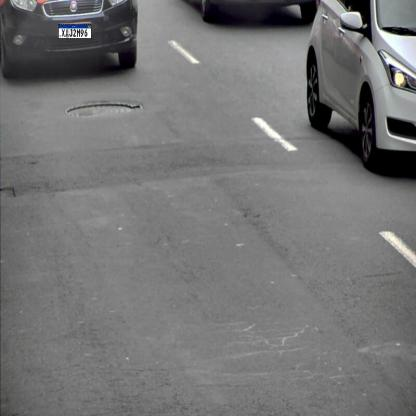PlacaM: (58, 24, 92, 39)
